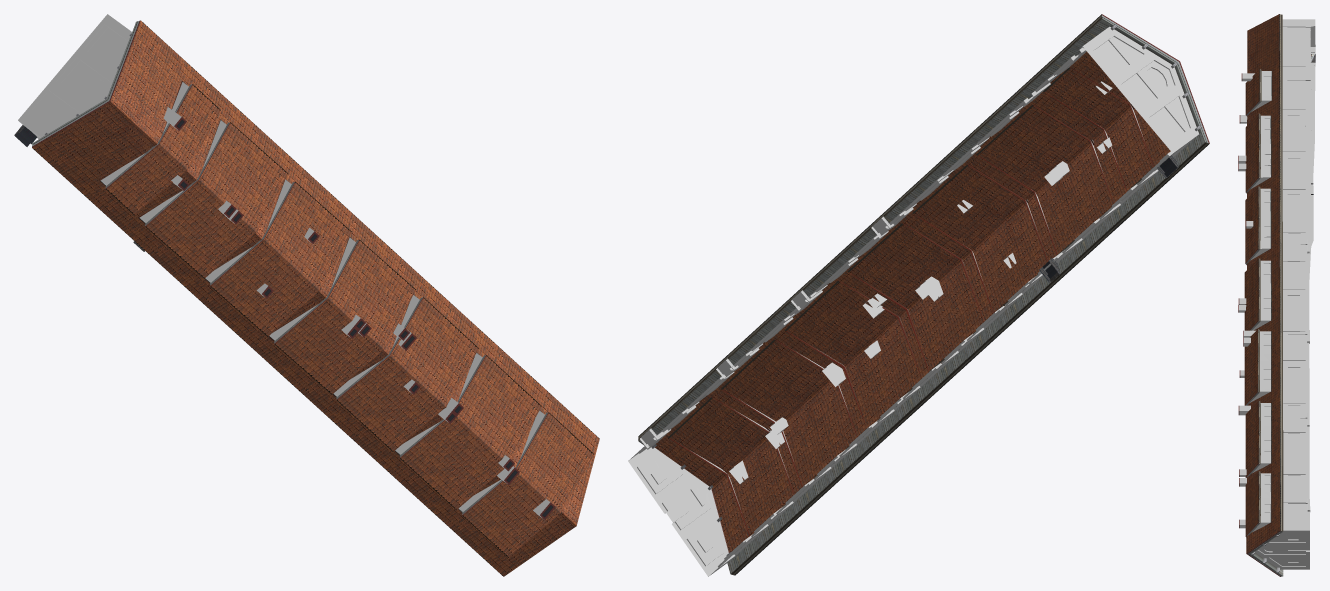
The model's file is Suurtyki_4a_1.obj.
3 renders of one model, left to right at view 1: azimuth 30°, elevation 25°; view 2: azimuth 150°, elevation 25°; view 3: azimuth 270°, elevation 25°, orthographic. The views are drawn at different scales.
Visible parts, largest first — view 1: Suurtyki_4a; view 2: Suurtyki_4a; view 3: Suurtyki_4a.
Boxes of the visible parts, x1,y1,x2,y2 form: Suurtyki_4a: (14, 14, 599, 576); Suurtyki_4a: (628, 14, 1209, 576); Suurtyki_4a: (1238, 14, 1315, 576).
Bounding box in the file's own units: 52.38 × 56.93 × 9.01.
